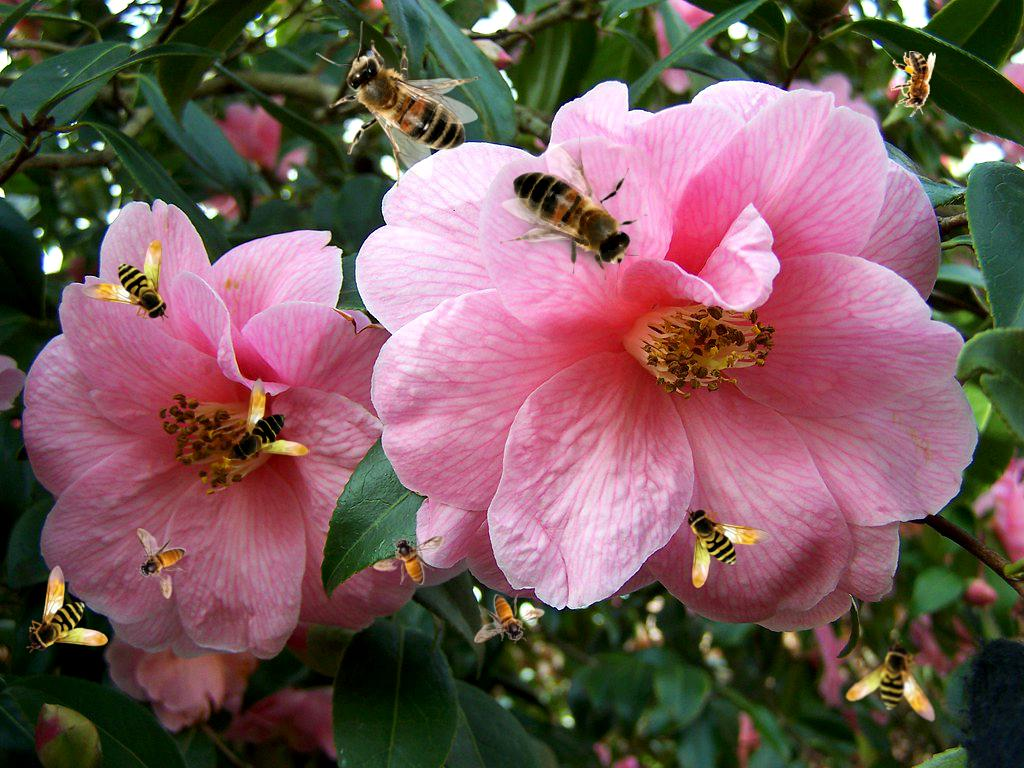Bee: (500, 133, 662, 300), (316, 21, 478, 188), (838, 634, 958, 756), (26, 565, 108, 653), (81, 240, 169, 322), (228, 376, 310, 464), (685, 506, 773, 588), (136, 528, 186, 599), (373, 535, 444, 585), (474, 594, 545, 644), (891, 51, 936, 117)
